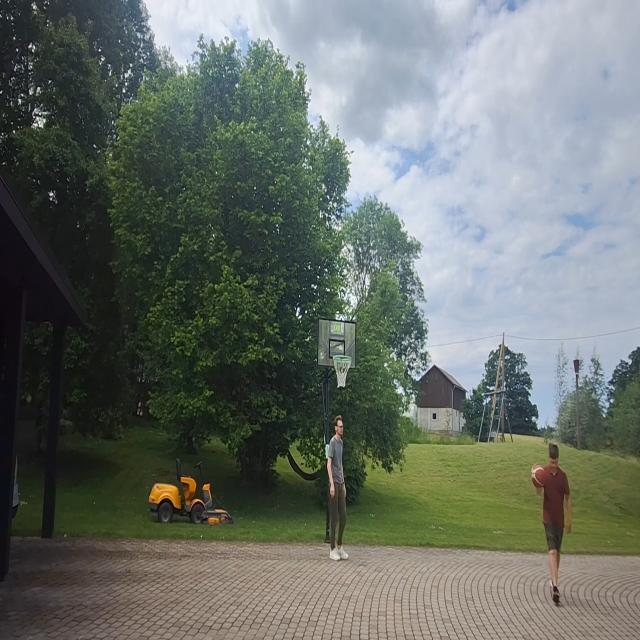ball: (530, 463, 546, 488)
basket: (333, 354, 352, 390)
player: (532, 442, 575, 606), (325, 412, 354, 562)
